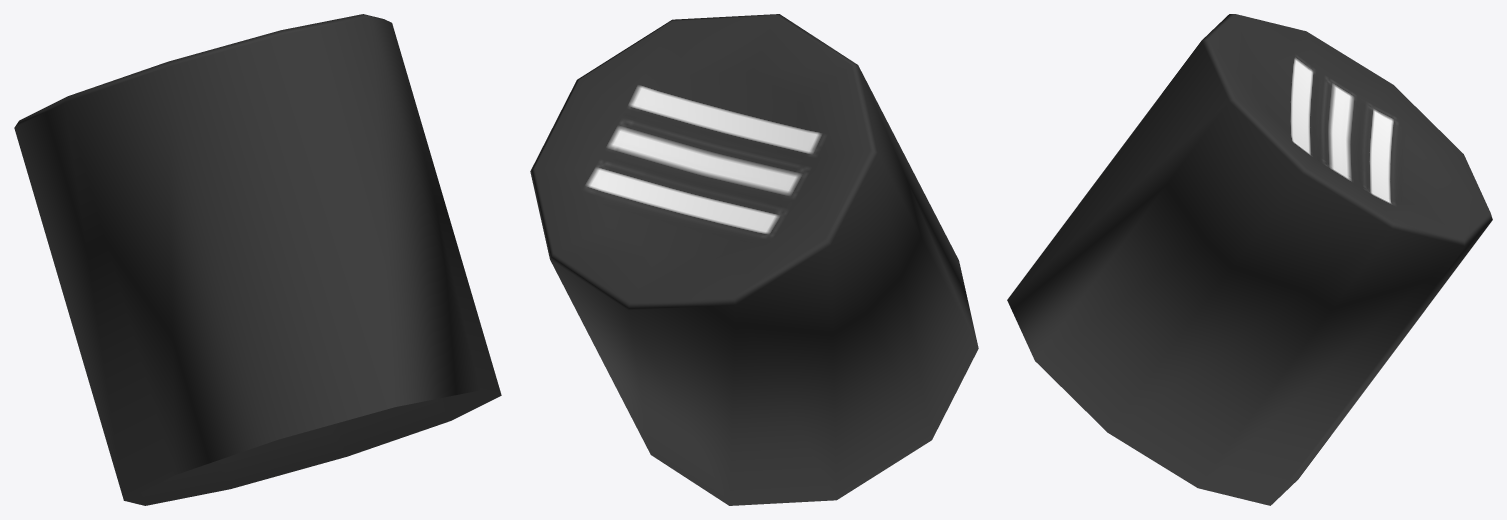
Rendered from crystal_controller_right_button5.obj.
The picture shows the model from 3 angles, left to right: view 1: azimuth 30°, elevation 25°; view 2: azimuth 150°, elevation 25°; view 3: azimuth 270°, elevation 25°; orthographic projection. The views are drawn at different scales.
Visible parts, largest first — view 1: crystal_controller_right_button5; view 2: crystal_controller_right_button5; view 3: crystal_controller_right_button5.
Boxes of the visible parts, x1=… form: crystal_controller_right_button5: x1=14, y1=14, x2=501, y2=505; crystal_controller_right_button5: x1=530, y1=14, x2=978, y2=505; crystal_controller_right_button5: x1=1007, y1=14, x2=1492, y2=505.
Bounding box in the file's own units: 0.00935 × 0.0135 × 0.0136.
1 material, 1 textured.
